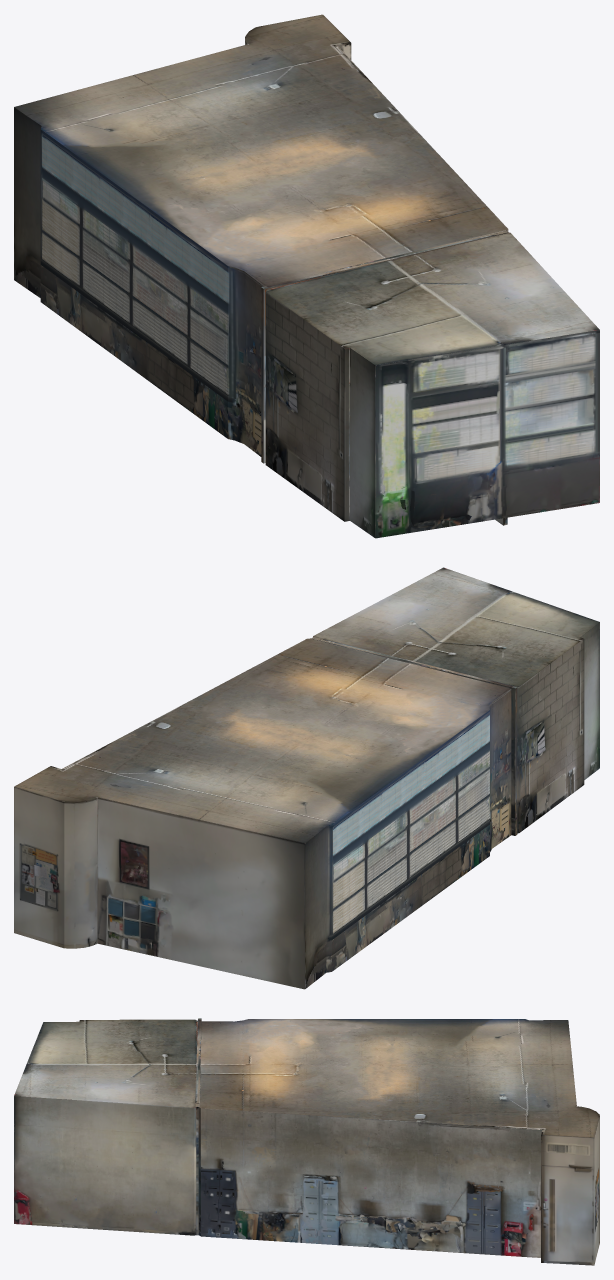
File: 101_-_BOTH_SIDES-IM.fbx
3 views of the same model, one above another, from view 1: azimuth 30°, elevation 25°; view 2: azimuth 150°, elevation 25°; view 3: azimuth 270°, elevation 25° (orthographic). The views are drawn at different scales.
Parts seen in each view (by area): view 1: 101 - BOTH SIDES-IM; view 2: 101 - BOTH SIDES-IM; view 3: 101 - BOTH SIDES-IM.
Part boxes in pixels (x1,y1,x2,y2): 101 - BOTH SIDES-IM: [14, 14, 599, 538]; 101 - BOTH SIDES-IM: [14, 567, 599, 989]; 101 - BOTH SIDES-IM: [14, 1018, 599, 1265].
Bounding box in the file's own units: 620 × 329 × 1293.
